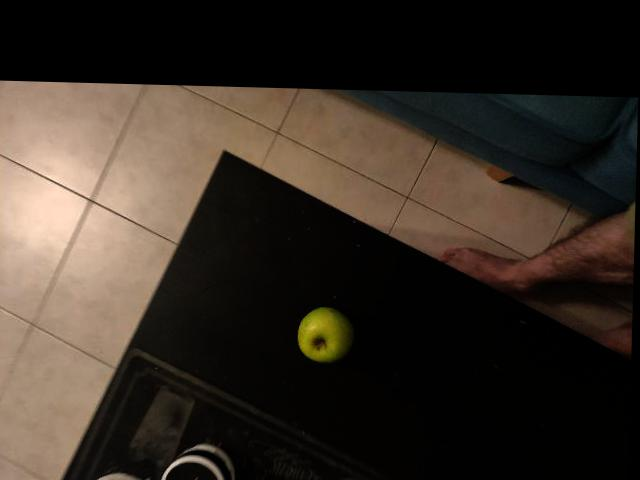apple: (203, 203, 269, 270)
